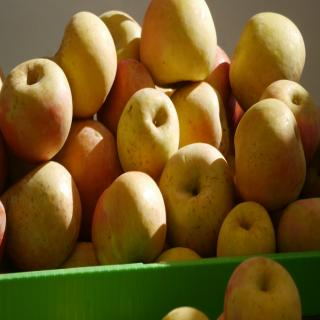Apple: (0, 0, 320, 272), (234, 94, 308, 209), (1, 53, 68, 160), (117, 88, 180, 183), (225, 257, 303, 320), (162, 308, 210, 320), (217, 311, 225, 320)
